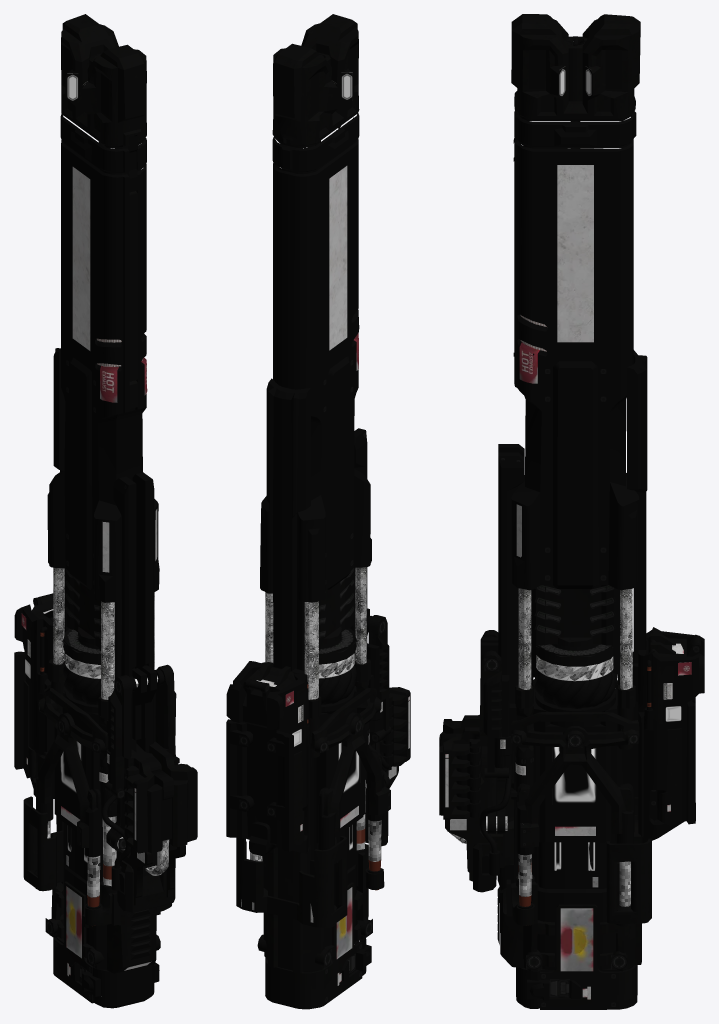
Rendered from fl-11-cannon.glb.
The picture shows the model from 3 angles, left to right: view 1: azimuth 30°, elevation 25°; view 2: azimuth 150°, elevation 25°; view 3: azimuth 270°, elevation 25°; orthographic projection. The views are drawn at different scales.
Parts seen in each view (by area): view 1: bas, mec_anm_lvl1, bar_main_lvl1; view 2: bas, mec_anm_lvl1; view 3: bas, mec_anm_lvl1.
Part boxes in pixels (x1,y1,x2,y2): bas: (14, 14, 197, 1008); mec_anm_lvl1: (58, 665, 101, 995); bar_main_lvl1: (40, 77, 121, 926); bas: (226, 14, 410, 1009); mec_anm_lvl1: (319, 665, 359, 974); bas: (439, 14, 704, 1009); mec_anm_lvl1: (534, 668, 617, 708).
Size of the model in its own units: 0.1533 by 1.44 by 0.3531.
Materials: 12 (11 with a texture image).
